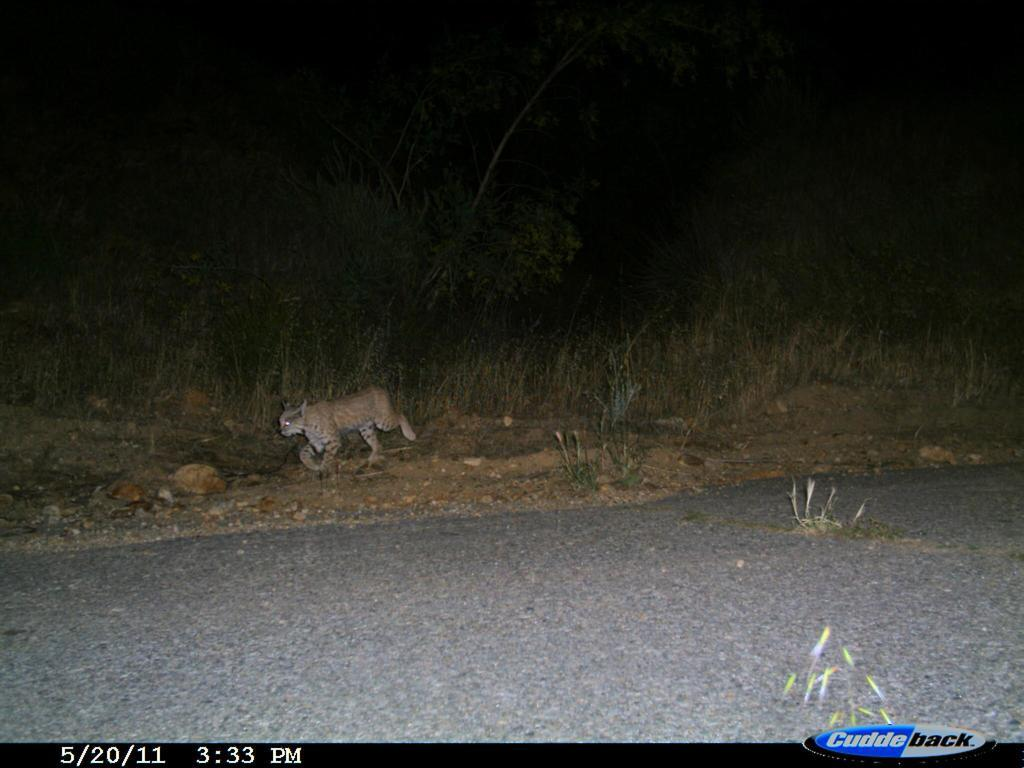bobcat: (271, 385, 431, 478)
